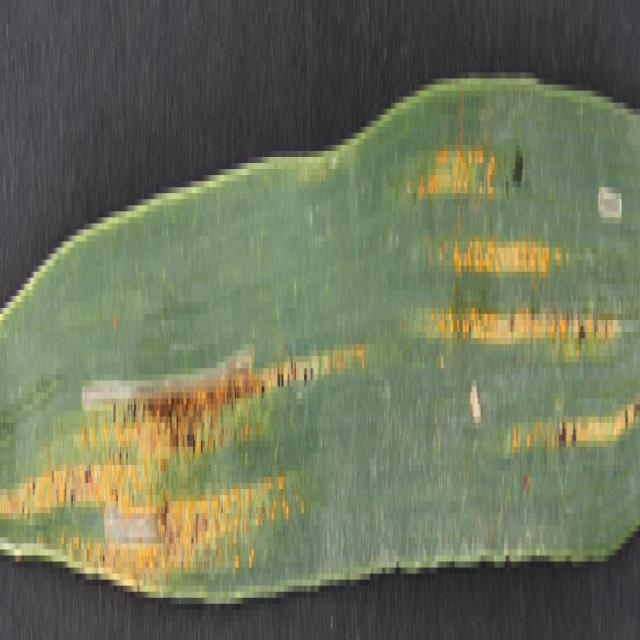leaf rust: (1, 253, 320, 580), (408, 120, 634, 562)
